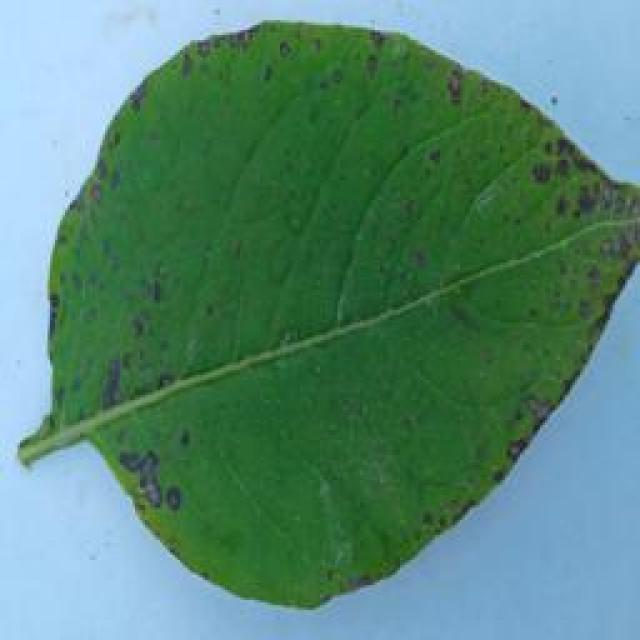Potato_Early_Blight: (47, 18, 640, 604)
